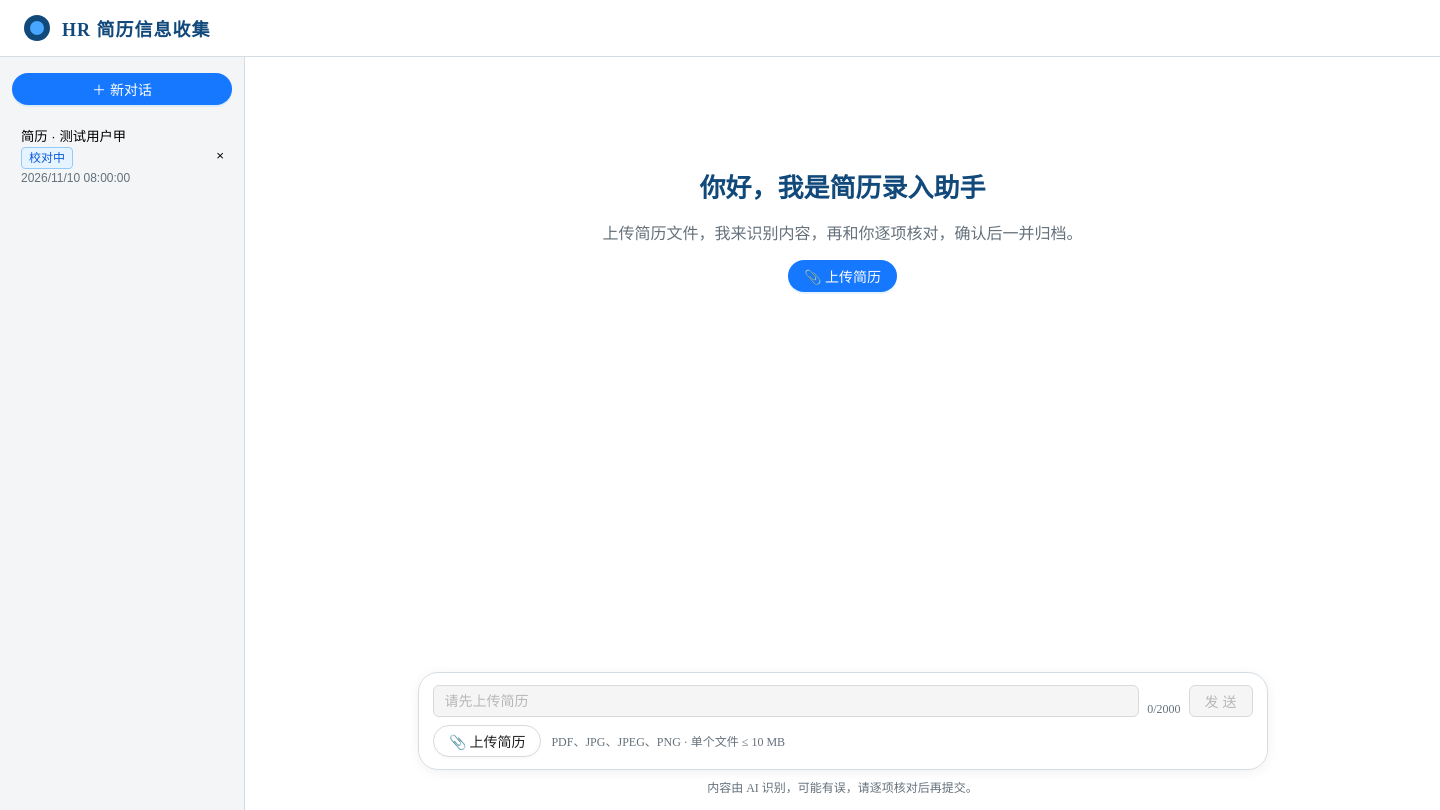
Scenario: final review (REQ-FE-04.1, 04.2) › keeps "确认提交" disabled with a reason while a core field is not confirmed
The image size is (1440, 810).
Later steps or results of the test are not shown.
Click the button "简历 · 测试用户甲 校对中 2026/11/10 08:00:00".
click(108, 156)  # box [12,117,204,194]
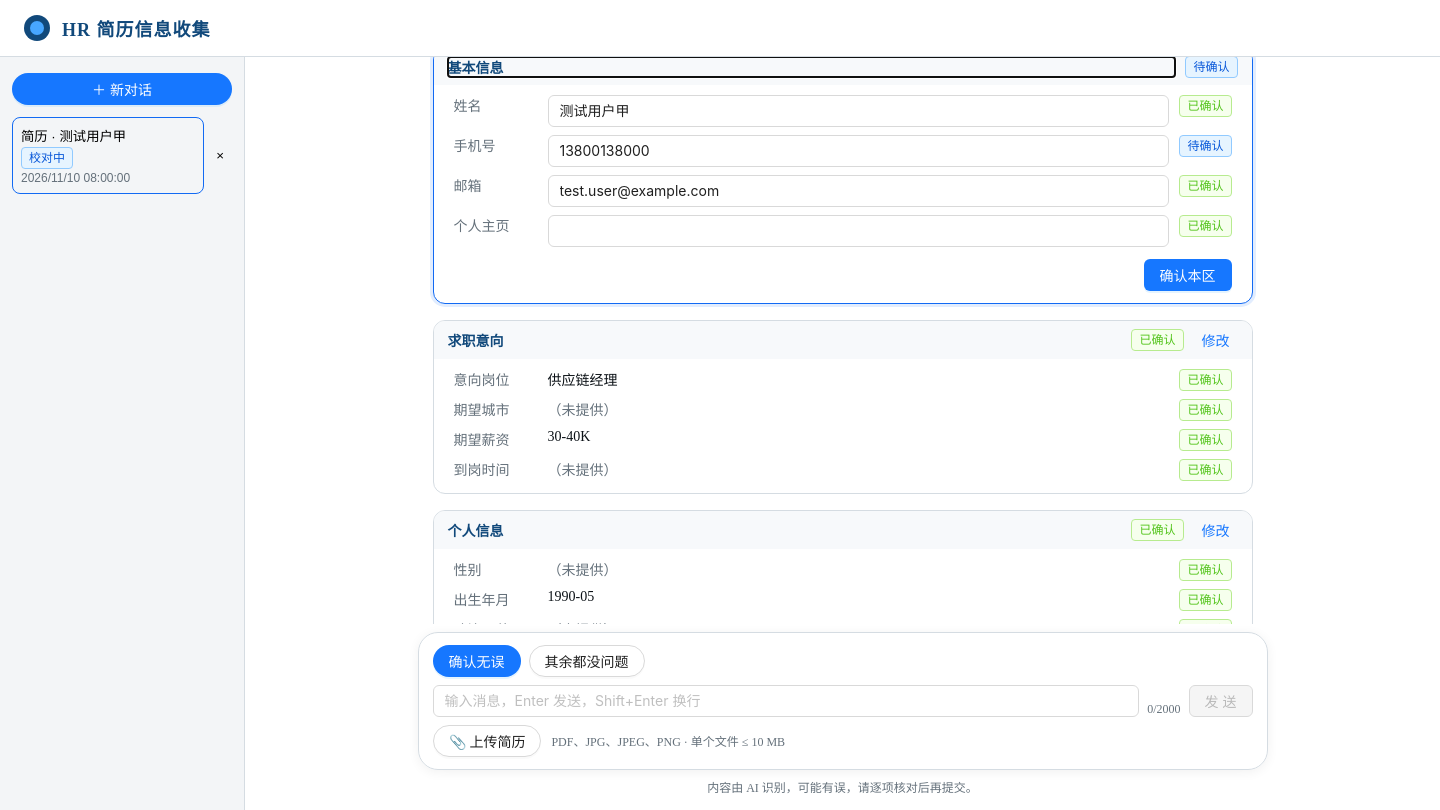
expect the heading "基本信息" is shown: met, box [448,61,504,76]
Click the button "其余都没问题".
click(586, 661)  # box [528,645,644,677]
(page scrolled)
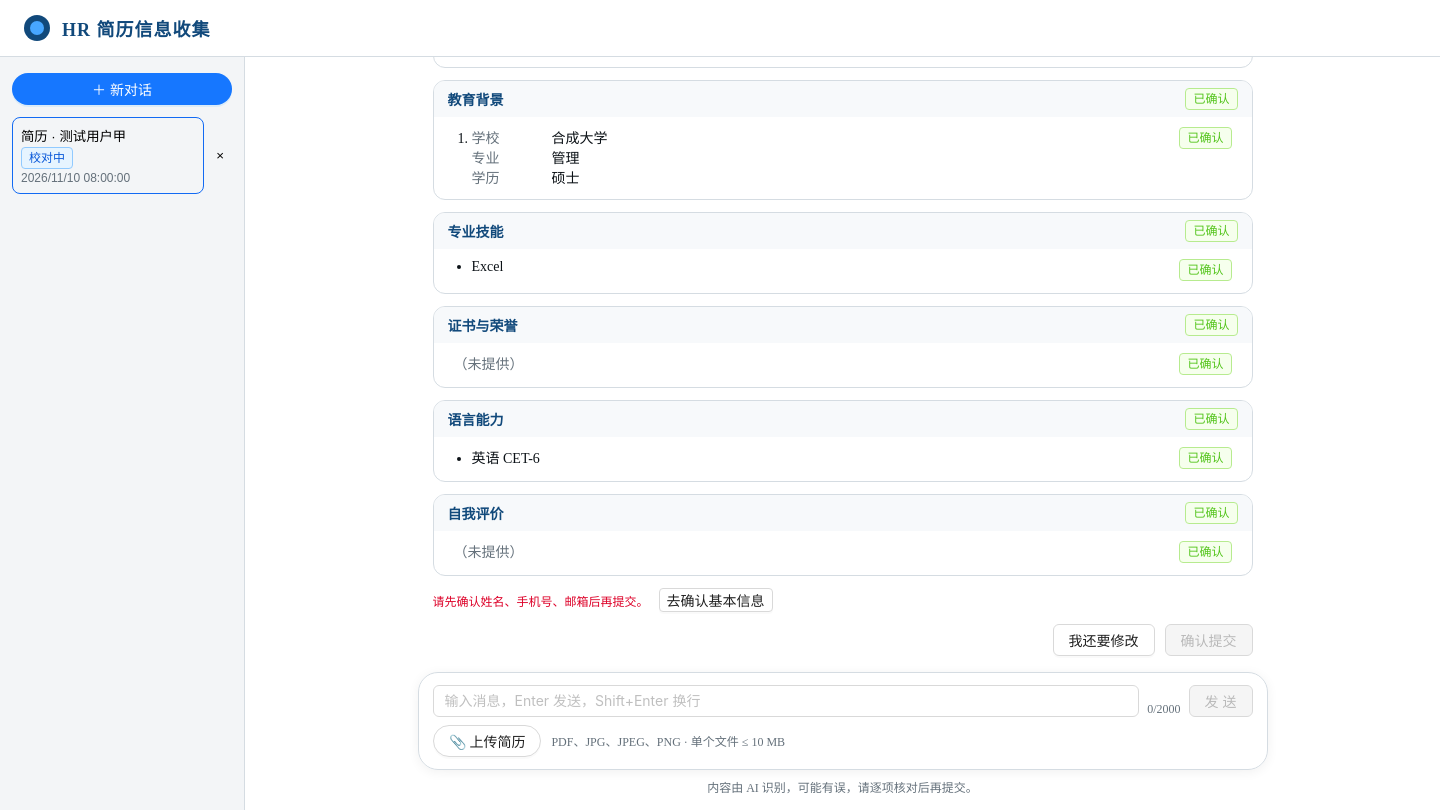
expect the button "确认提交" is disabled: met, box [1164,624,1252,656]
expect the text "请先确认姓名、手机号、邮箱后再提交。" is shown: met, box [432,592,648,610]
